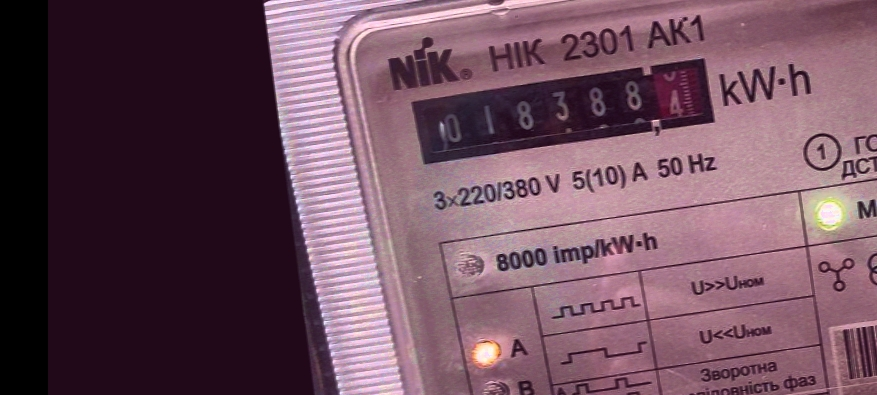0: (439, 110, 464, 149)
1: (476, 101, 499, 140)
3: (548, 89, 573, 126)
4: (662, 86, 686, 122)
8: (511, 97, 537, 135), (584, 85, 609, 123), (620, 78, 645, 116)
screen: (401, 49, 728, 179)
